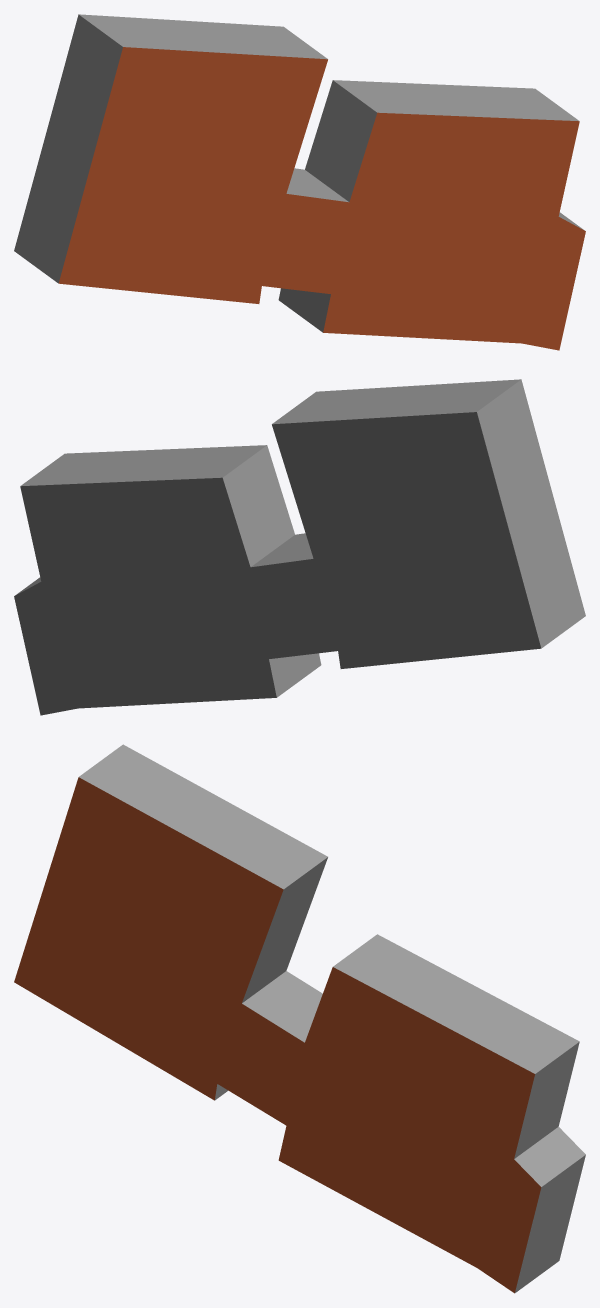
Rendered from construction_5252_assumed_A_Casa_h6m.obj.
The picture shows the model from 3 angles, top to bottom: view 1: azimuth 30°, elevation 25°; view 2: azimuth 150°, elevation 25°; view 3: azimuth 330°, elevation 25°; orthographic projection.
Visible parts, largest first — view 1: construction_5252_assumed_A_Casa; view 2: construction_5252_assumed_A_Casa; view 3: construction_5252_assumed_A_Casa.
Part boxes in pixels (x1,y1,x2,y2): construction_5252_assumed_A_Casa: (14, 14, 585, 350); construction_5252_assumed_A_Casa: (14, 379, 585, 715); construction_5252_assumed_A_Casa: (14, 744, 585, 1293).
Size of the model in its own units: 40.96 by 30.43 by 6.
